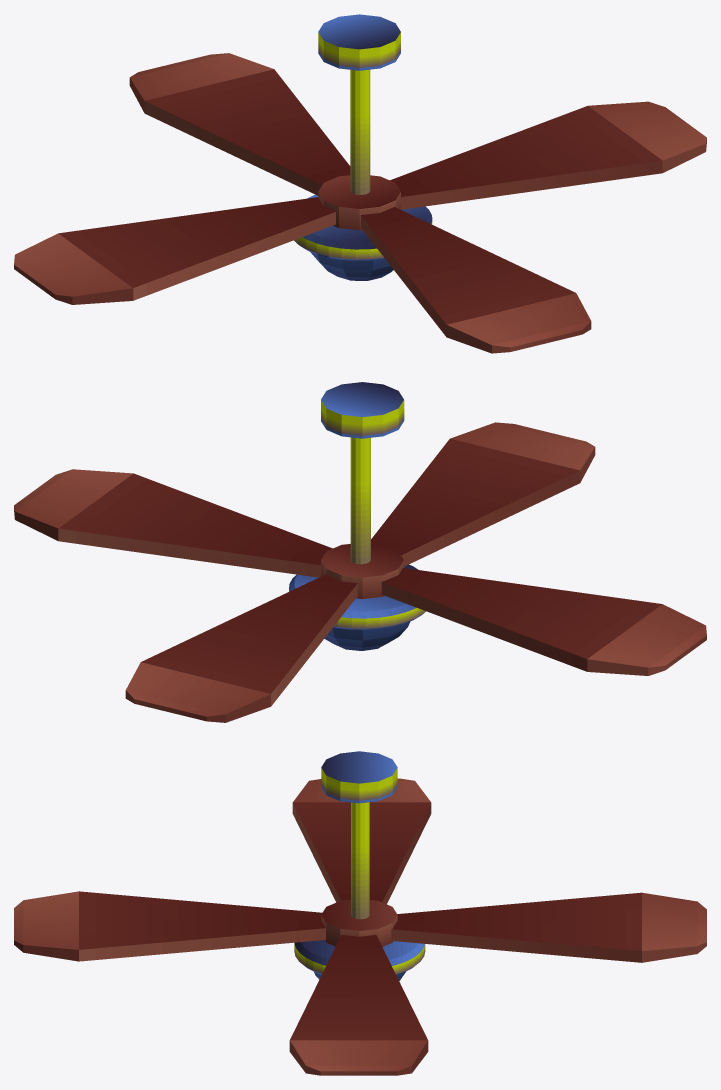
File: fan.fbx
3 views of the same model, one above another, from view 1: azimuth 30°, elevation 25°; view 2: azimuth 150°, elevation 25°; view 3: azimuth 270°, elevation 25° (orthographic). The views are drawn at different scales.
Visible parts, largest first — view 1: FanCenter; view 2: FanCenter; view 3: FanCenter.
Part boxes in pixels (<box>): FanCenter: <box>14,14,706,353</box>; FanCenter: <box>14,382,706,722</box>; FanCenter: <box>14,751,706,1075</box>.
Size of the model in its own units: 1275 by 459 by 1275.
